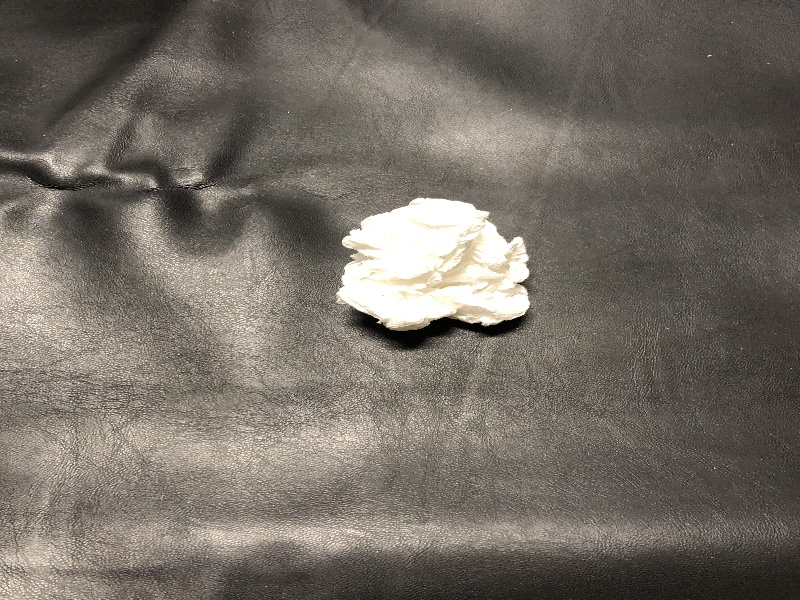paper: (328, 186, 549, 353)
